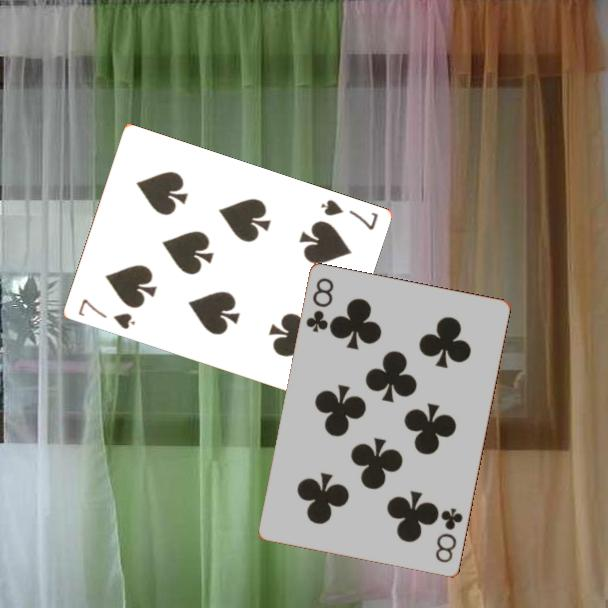c08: (432, 505, 466, 566), (303, 275, 337, 336)
s07: (74, 295, 138, 332), (317, 196, 381, 233)
